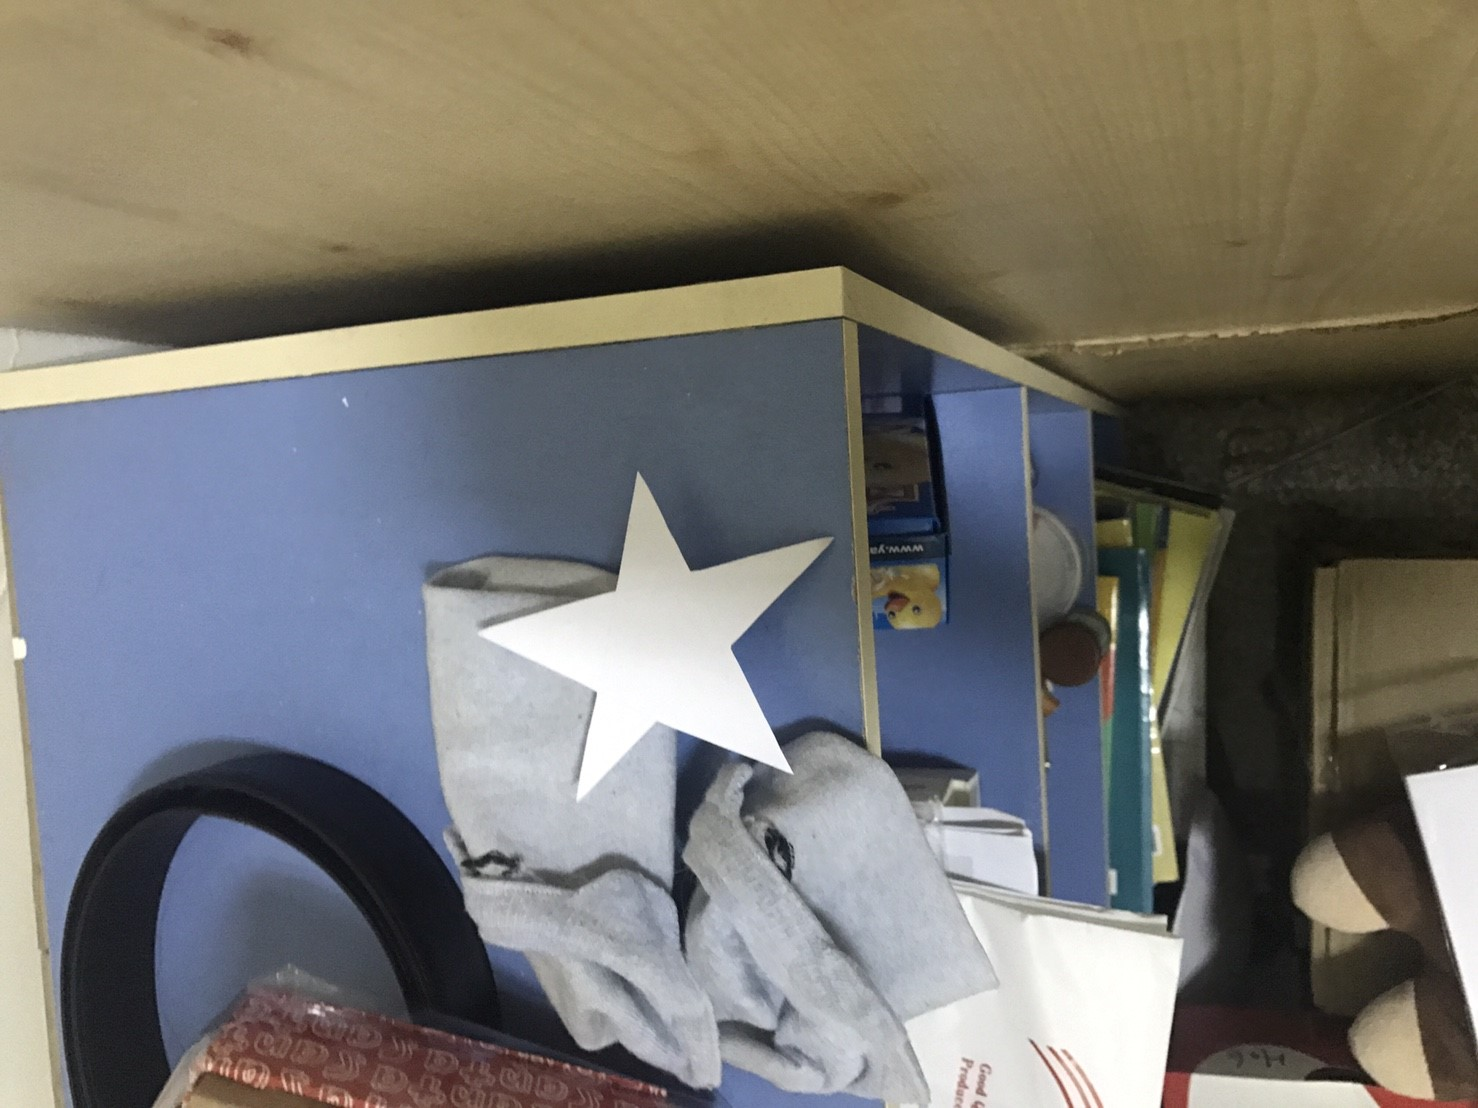star: (477, 459, 884, 812)
